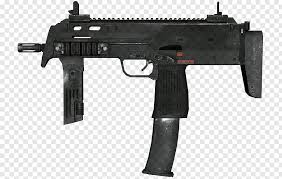gun: (15, 0, 264, 176)
